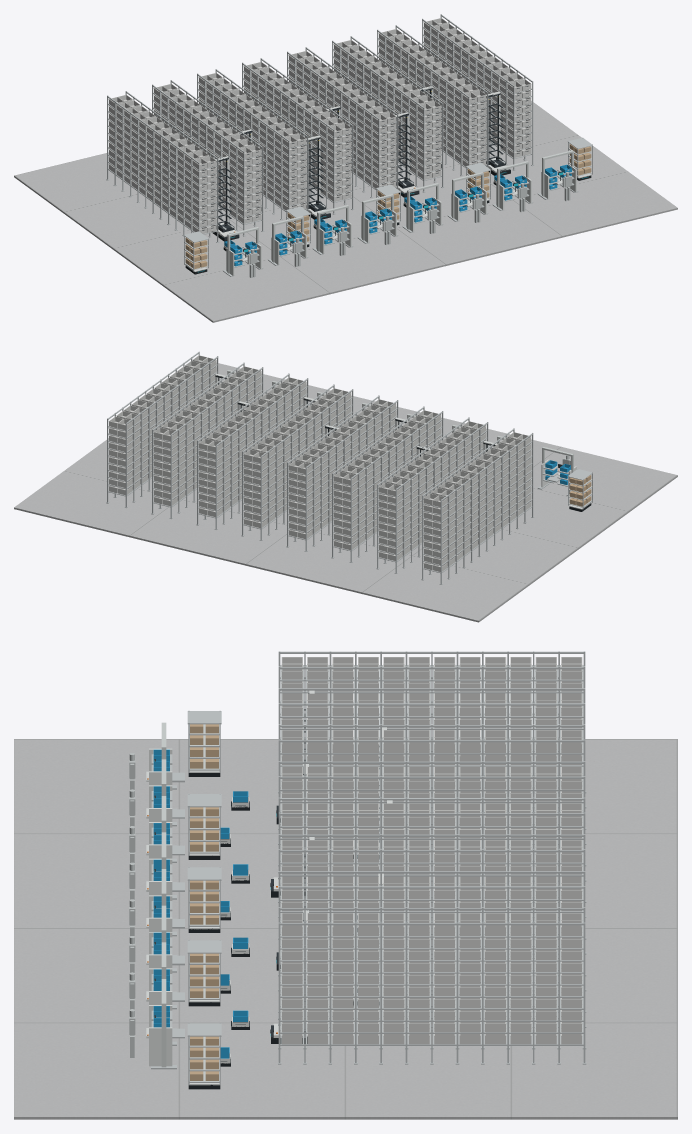
The picture shows the model from 3 angles, top to bottom: view 1: azimuth 30°, elevation 25°; view 2: azimuth 150°, elevation 25°; view 3: azimuth 270°, elevation 25°; orthographic projection. The views are drawn at different scales.
Visible parts, largest first — view 1: Floor slab; view 2: Floor slab; view 3: Floor slab, Top longitudinal rail.001, Top longitudinal rail.004, Top longitudinal rail.005, Top longitudinal rail.011, Top longitudinal rail.014, Top longitudinal rail.015, Top longitudinal rail.002, Top longitudinal rail.003, Top longitudinal rail.009, Top longitudinal rail.012, Top longitudinal rail.013 (+6 smaller).
Part boxes in pixels (box(x1,y1,x2,y2)): Floor slab: box(14, 101, 677, 322); Floor slab: box(14, 363, 677, 622); Floor slab: box(14, 739, 677, 1119); Top longitudinal rail.001: box(279, 667, 584, 669); Top longitudinal rail.004: box(279, 725, 584, 727); Top longitudinal rail.005: box(279, 740, 584, 742); Top longitudinal rail.011: box(279, 850, 584, 852); Top longitudinal rail.014: box(279, 908, 584, 910); Top longitudinal rail.015: box(279, 923, 584, 925); Top longitudinal rail.002: box(279, 688, 584, 690); Top longitudinal rail.003: box(279, 703, 584, 705); Top longitudinal rail.009: box(279, 813, 584, 815); Top longitudinal rail.012: box(279, 871, 584, 873); Top longitudinal rail.013: box(279, 886, 584, 888).
Size of the model in its own units: 31 by 5.48 by 23.
Materials: 13 (1 with a texture image).
